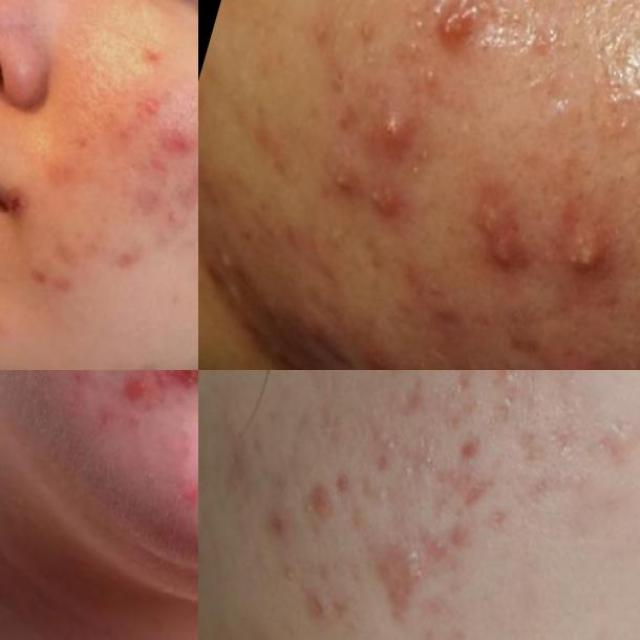acne_scars: (424, 454, 496, 521), (21, 260, 86, 306), (108, 236, 161, 290), (476, 396, 522, 448), (509, 426, 548, 482), (297, 588, 333, 640), (445, 522, 479, 558)
comedone: (364, 418, 406, 461), (137, 84, 173, 125), (184, 162, 198, 229), (370, 484, 393, 518), (396, 454, 419, 485)
papule: (358, 521, 443, 624), (414, 284, 482, 338), (88, 370, 159, 417), (146, 107, 198, 171), (294, 475, 344, 537), (448, 423, 492, 480), (343, 336, 405, 370), (554, 351, 611, 370)
pustule: (368, 100, 412, 170)
sebo-crystan-conglo: (552, 208, 635, 295), (423, 0, 506, 78), (462, 192, 534, 277), (148, 370, 198, 413)
